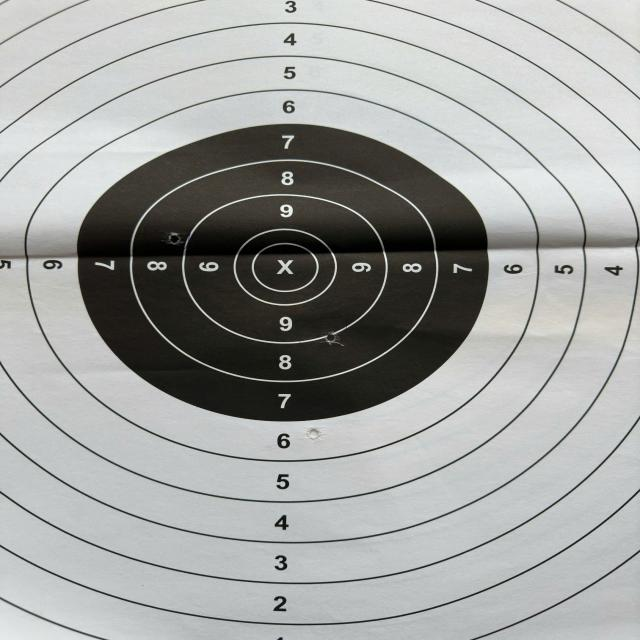bullet: (309, 428, 324, 441), (169, 232, 180, 244), (329, 332, 340, 344)
target: (0, 0, 640, 640)
